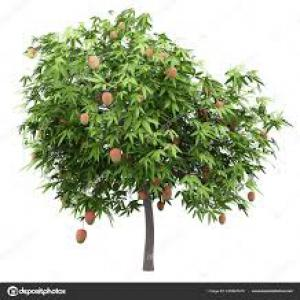Tree: (17, 6, 286, 273)
